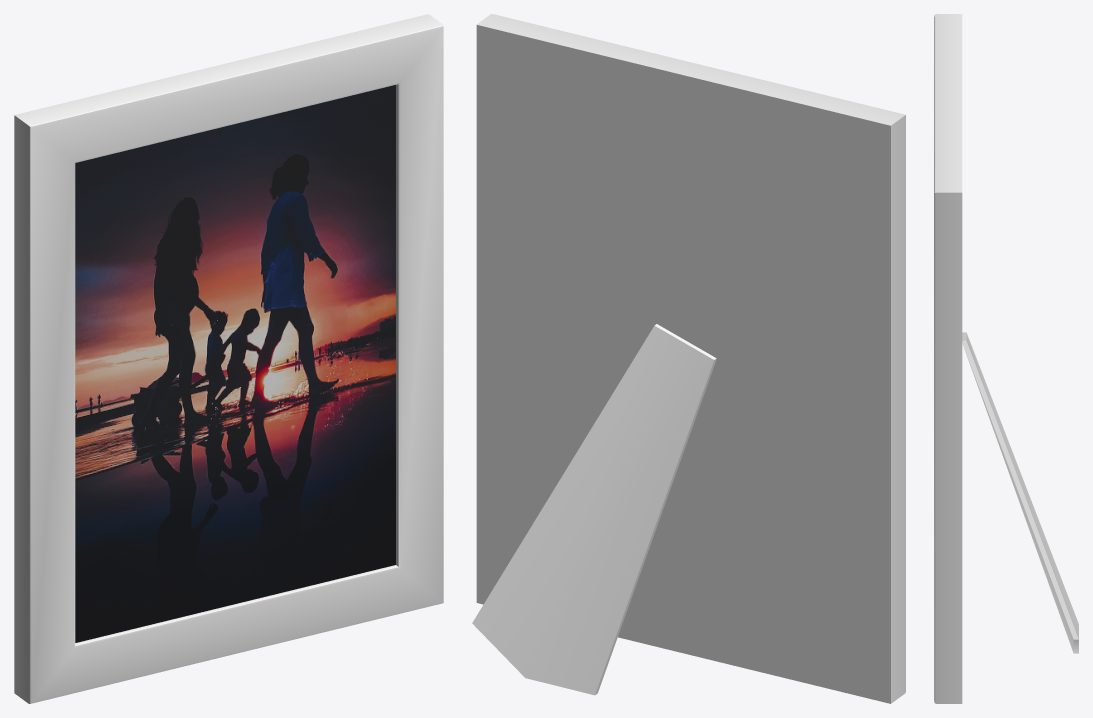
File: Photo frame 3.fbx
The picture shows the model from 3 angles, left to right: view 1: azimuth 30°, elevation 25°; view 2: azimuth 150°, elevation 25°; view 3: azimuth 270°, elevation 25°; orthographic projection. The views are drawn at different scales.
Parts seen in each view (by area): view 1: Photo frame 3; view 2: Photo frame 3; view 3: Photo frame 3.
Part boxes in pixels (box(x1,y1,x2,y2)): Photo frame 3: box(14, 14, 443, 703); Photo frame 3: box(472, 14, 905, 703); Photo frame 3: box(934, 14, 1078, 703).
Bounding box in the file's own units: 180 × 240 × 61.57.
Materials: 1 (1 with a texture image).
